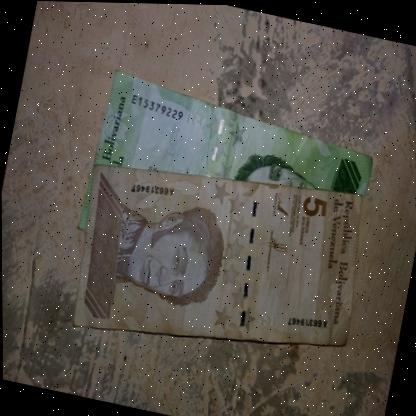fifty-front-vef: (73, 65, 380, 286)
